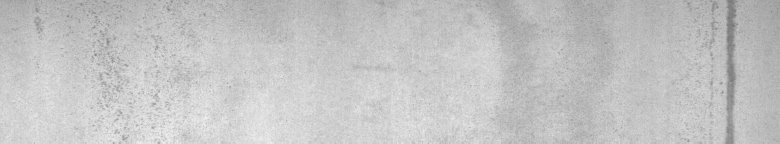ib: (34, 4, 175, 136)
